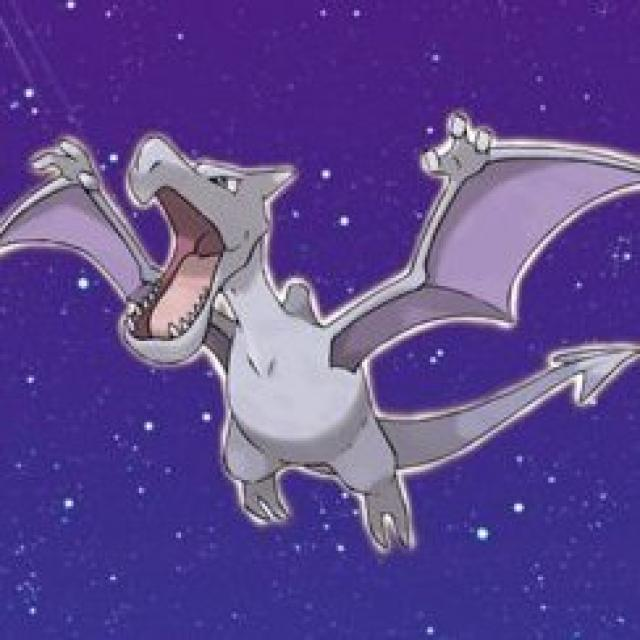Aerodactyl: (44, 127, 528, 536)
